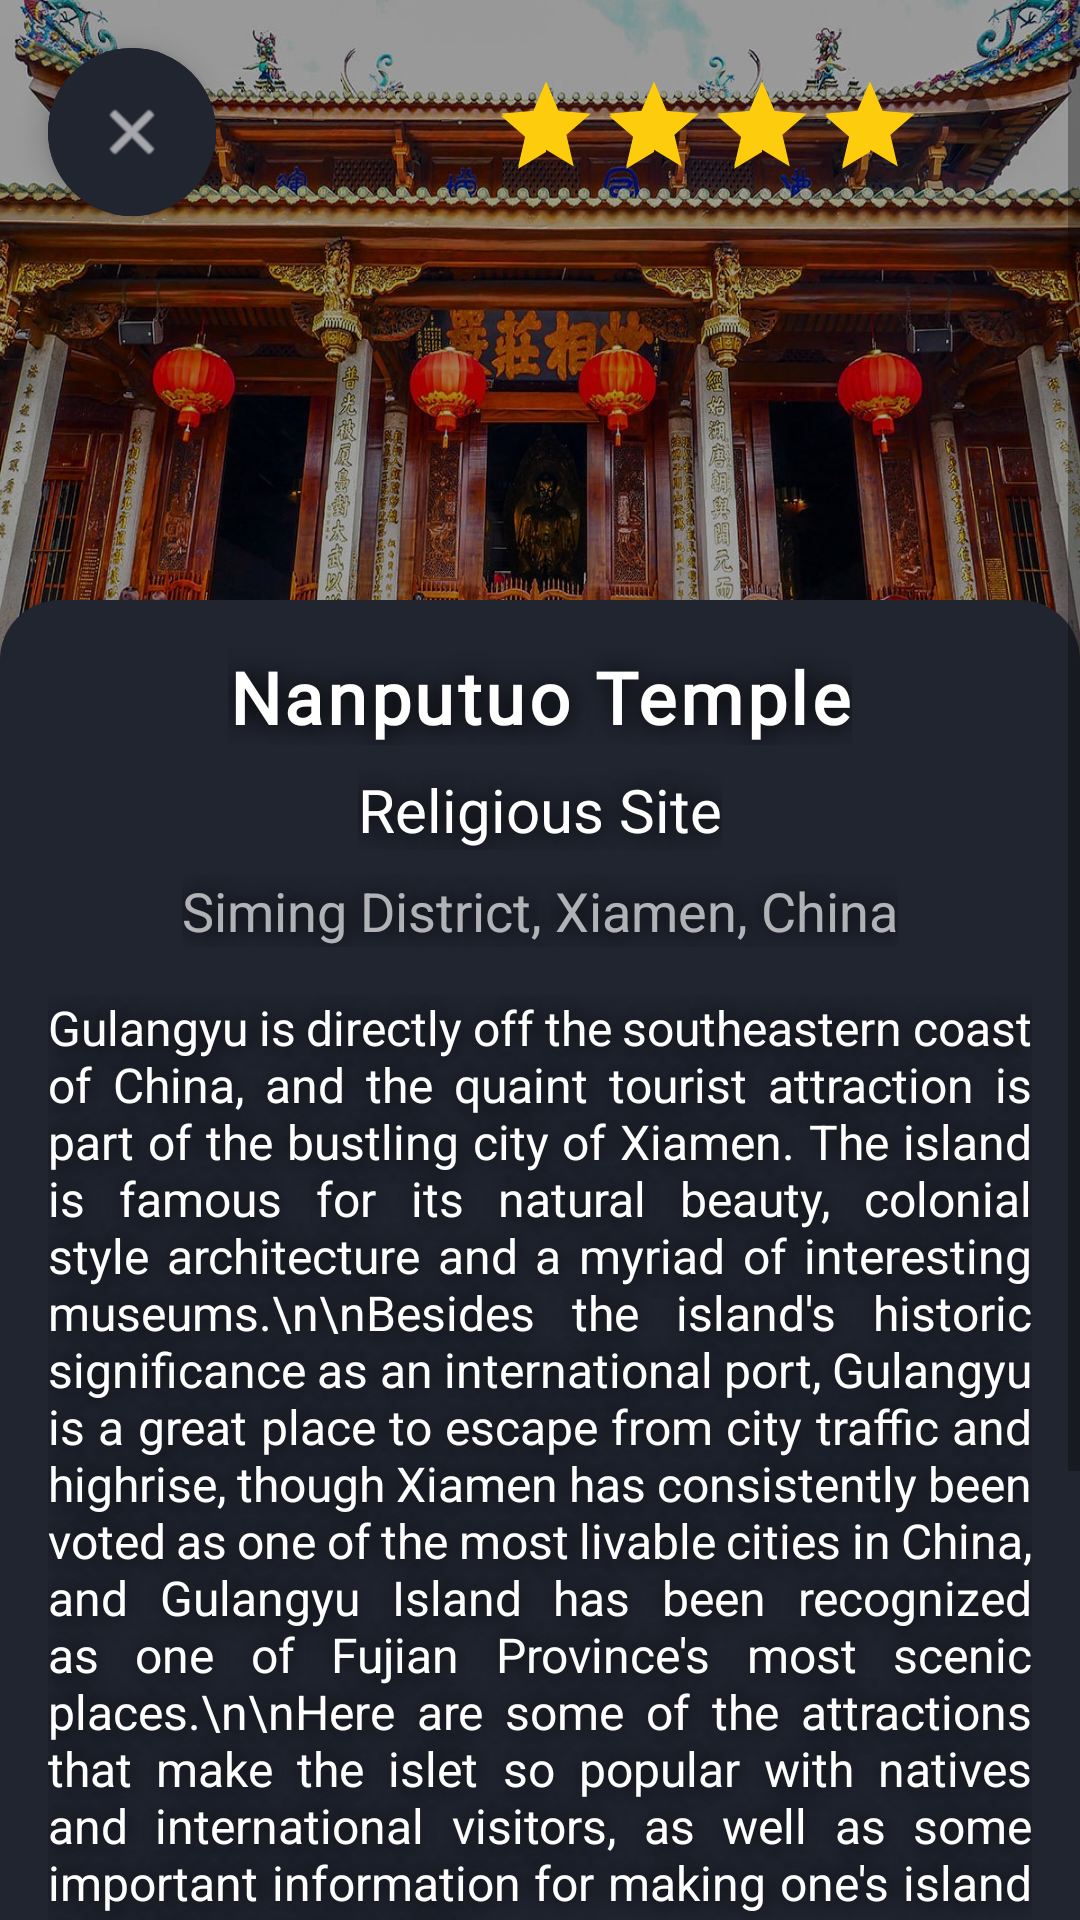

Icons on this 1080w x 1920h Android screen, each with the point to tap as (x,y):
close clear cancel: (132,132)
